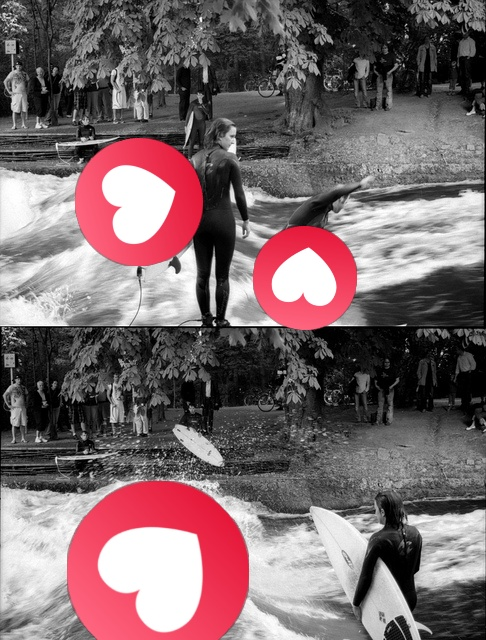love: (67, 481, 249, 640), (75, 138, 203, 266), (253, 226, 357, 330)
